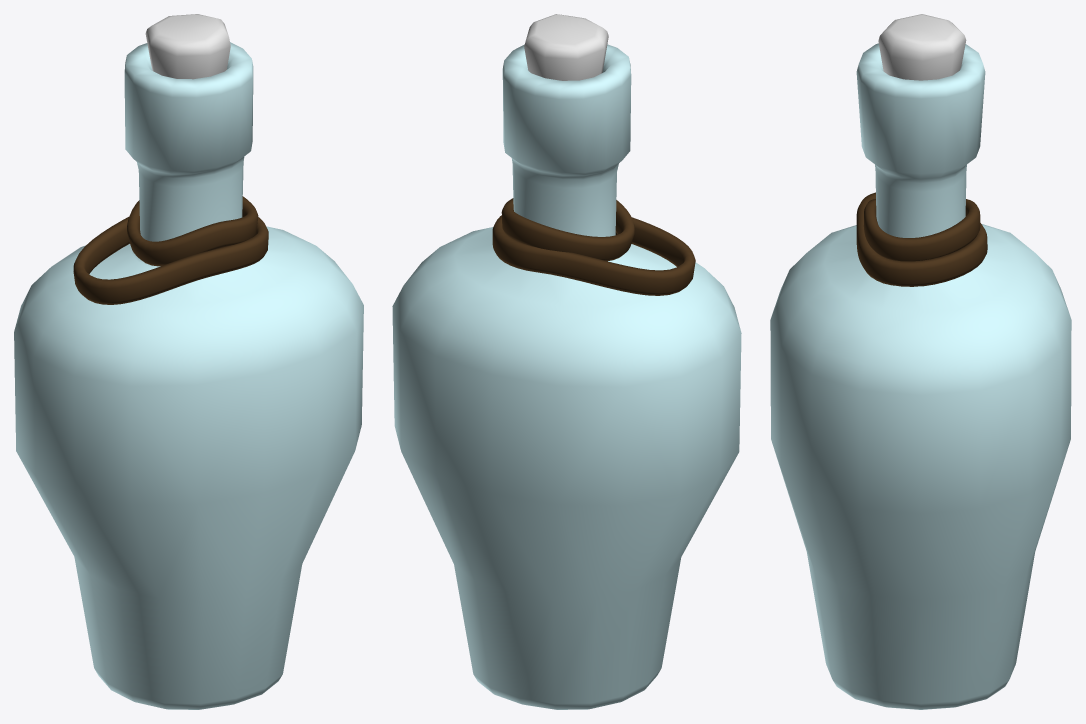
Rendered from m_BluePotion4.fbx.
3 renders of one model, left to right at view 1: azimuth 30°, elevation 25°; view 2: azimuth 150°, elevation 25°; view 3: azimuth 270°, elevation 25°, orthographic.
Visible parts, largest first — view 1: m_BluePotion4; view 2: m_BluePotion4; view 3: m_BluePotion4.
Part boxes in pixels (left/top/right/bottom): m_BluePotion4: left=14, top=14, right=363, bottom=709; m_BluePotion4: left=392, top=14, right=741, bottom=709; m_BluePotion4: left=770, top=14, right=1071, bottom=709.
Bounding box in the file's own units: 40.34 × 81.07 × 33.85.
